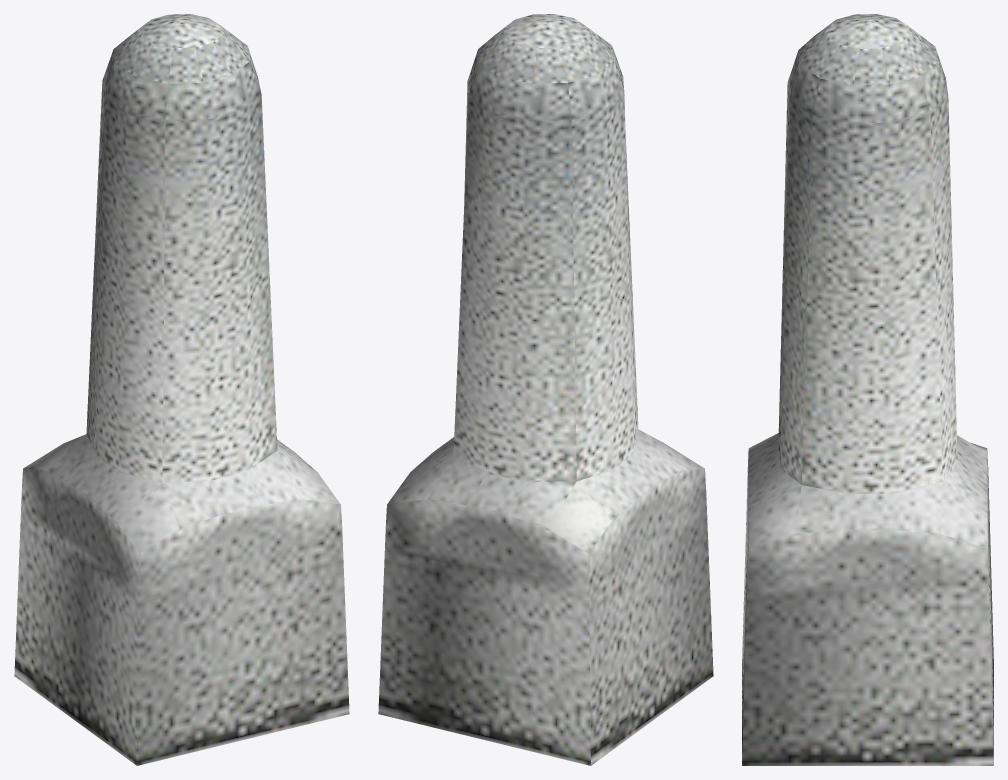
Rendered from Paloacera2.fbx.
3 renders of one model, left to right at view 1: azimuth 30°, elevation 25°; view 2: azimuth 150°, elevation 25°; view 3: azimuth 270°, elevation 25°, orthographic. The views are drawn at different scales.
Parts seen in each view (by area): view 1: concrete_retro_bollard_light; view 2: concrete_retro_bollard_light; view 3: concrete_retro_bollard_light.
Boxes of the visible parts, x1,y1,x2,y2 form: concrete_retro_bollard_light: (14,14,349,765); concrete_retro_bollard_light: (378,14,713,765); concrete_retro_bollard_light: (742,14,993,765).
Bounding box in the file's own units: 42.86 × 130 × 42.86.
